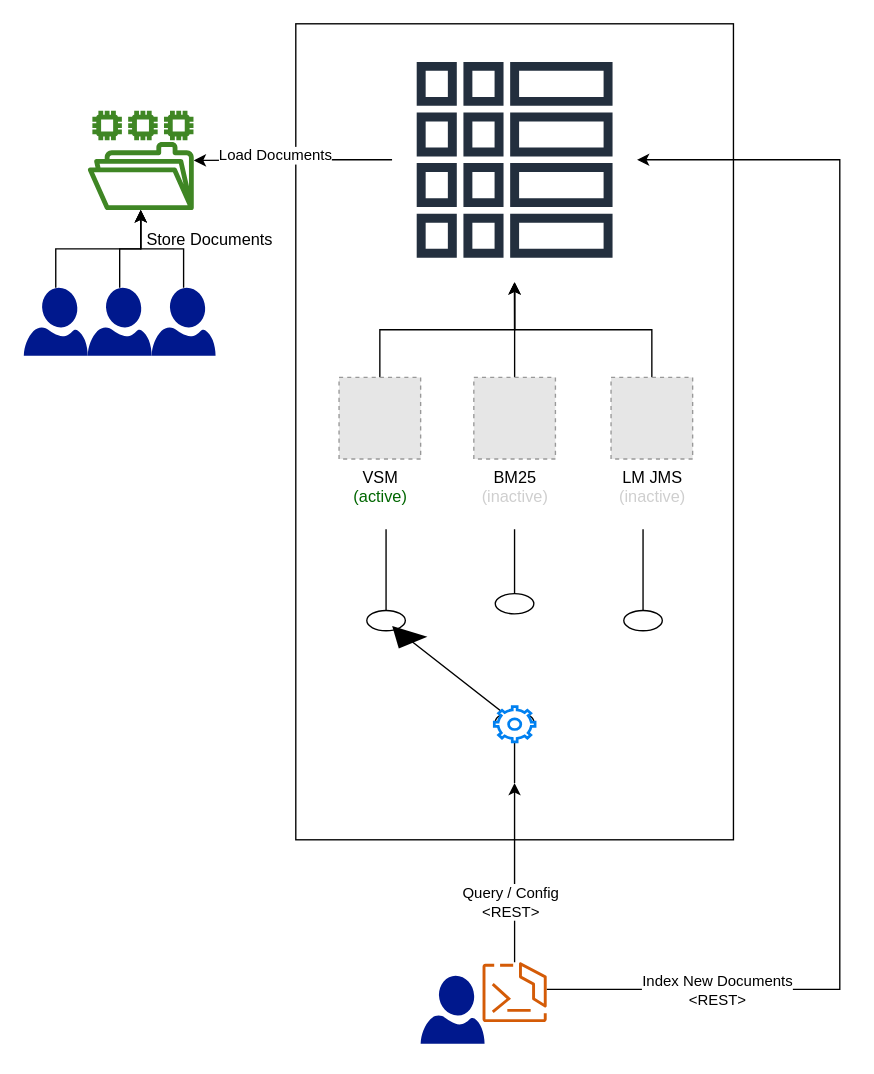
Image size: 874x1074. Some labels were removed from this diagram. Grey dashed boxes stand in for pictures. The shapes that lost their labels are listed below. From the top down, each one's centre as x and y in pixels, then its label:
At (x=514, y=724): "Search Component".
At (x=514, y=991): "Client".
